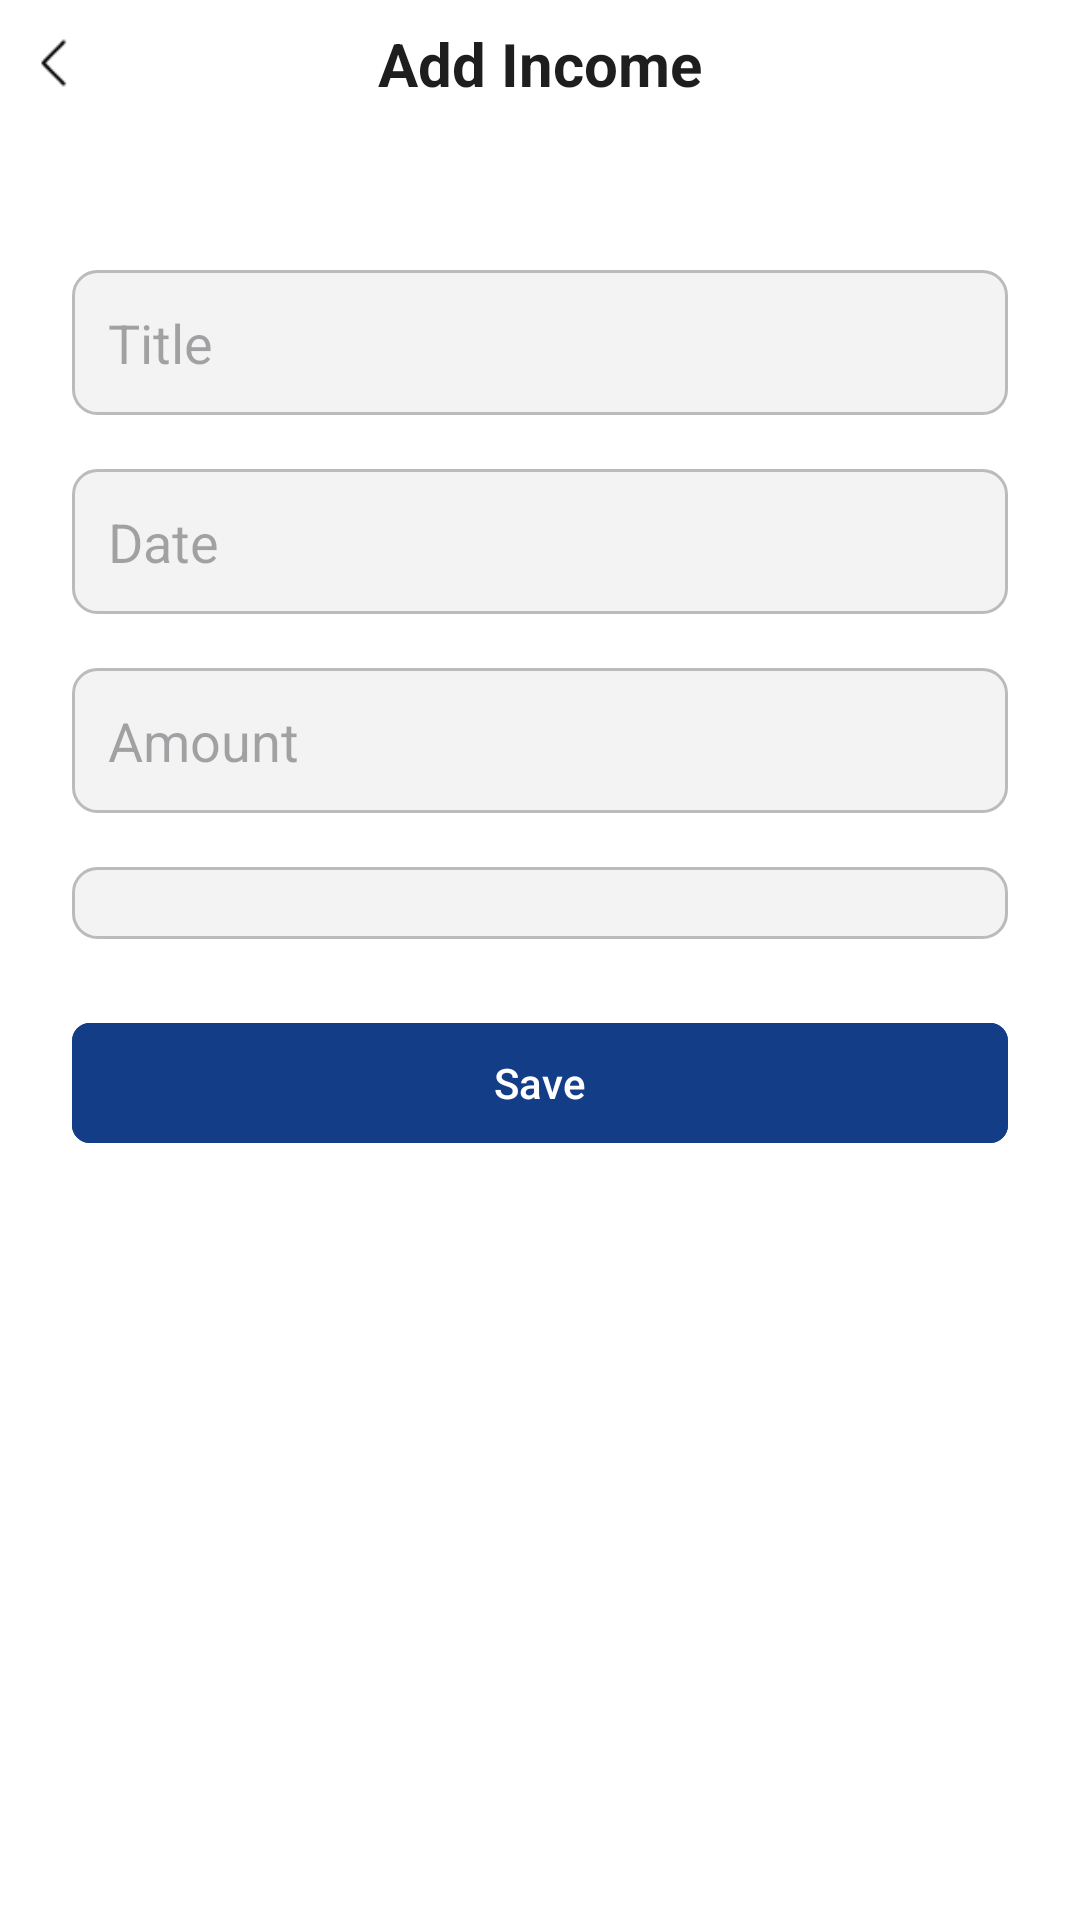

Named icons in this screenshot (1080x1920) and their bounding boxes, (x1, y1, x2, y2):
back: (41, 39, 66, 87)
